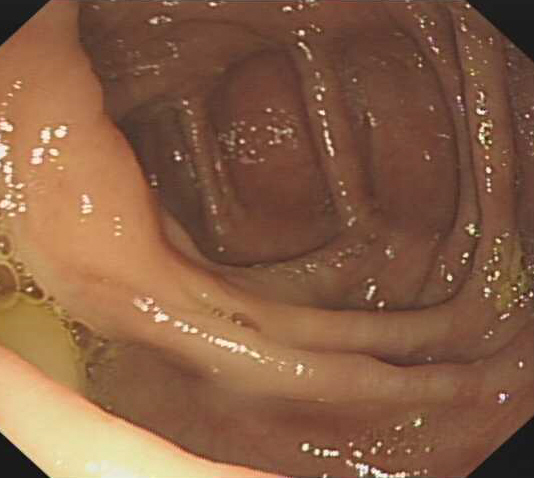others: (11, 55, 164, 285)
